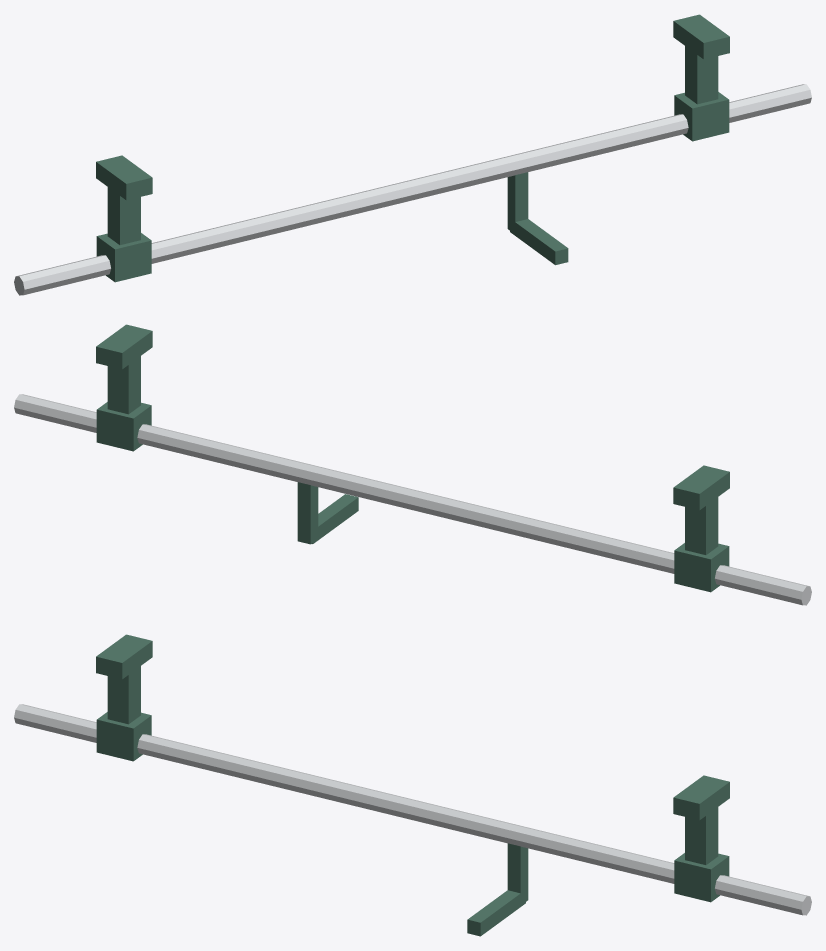
Rendered from botanical-glasshouse-and-palm-house-botanical-glasshou-2a3e3df1__38548.glb.
The picture shows the model from 3 angles, top to bottom: view 1: azimuth 30°, elevation 25°; view 2: azimuth 150°, elevation 25°; view 3: azimuth 330°, elevation 25°; orthographic projection.
Visible parts, largest first — view 1: shaft/steel, botanical-glasshouse-and-palm-house-ventilation-shaft-run, shaft/iron; view 2: shaft/steel, botanical-glasshouse-and-palm-house-ventilation-shaft-run, shaft/iron; view 3: shaft/steel, botanical-glasshouse-and-palm-house-ventilation-shaft-run, shaft/iron.
Boxes of the visible parts, box(x1,y1,x2,y2) form: shaft/steel: box(14, 84, 811, 295); botanical-glasshouse-and-palm-house-ventilation-shaft-run: box(96, 14, 729, 282); shaft/iron: box(507, 172, 568, 265); shaft/steel: box(14, 394, 811, 605); botanical-glasshouse-and-palm-house-ventilation-shaft-run: box(96, 324, 729, 592); shaft/iron: box(297, 482, 358, 544); shaft/steel: box(14, 704, 811, 915); botanical-glasshouse-and-palm-house-ventilation-shaft-run: box(96, 634, 729, 902); shaft/iron: box(467, 843, 528, 936).
Size of the model in its own units: 3 by 0.575 by 0.39.
